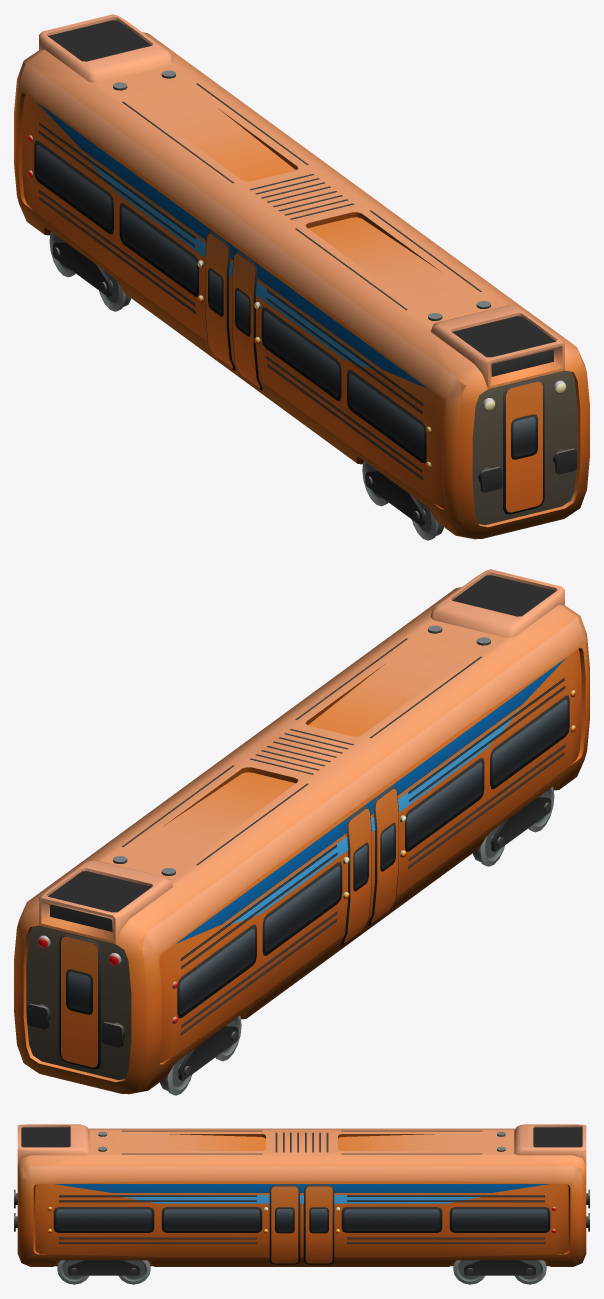
Rendered from Train_Cart_1A.fbx.
The picture shows the model from 3 angles, top to bottom: view 1: azimuth 30°, elevation 25°; view 2: azimuth 150°, elevation 25°; view 3: azimuth 270°, elevation 25°; orthographic projection. The views are drawn at different scales.
Visible parts, largest first — view 1: Train_Cart_1A, Train_Cart_1A_Livery; view 2: Train_Cart_1A, Train_Cart_1A_Livery; view 3: Train_Cart_1A, Train_Cart_1A_Livery, Train_Cart_1A_Wheel_M2.L, Train_Cart_1A_Wheel_R.L, Train_Cart_1A_Wheel_M1.L, Train_Cart_1A_Wheel_F.L.
Part boxes in pixels (<box>): Train_Cart_1A: <box>14,14,589,539</box>; Train_Cart_1A_Livery: <box>37,102,427,388</box>; Train_Cart_1A: <box>14,569,589,1094</box>; Train_Cart_1A_Livery: <box>176,657,566,943</box>; Train_Cart_1A: <box>14,1124,589,1275</box>; Train_Cart_1A_Livery: <box>54,1184,549,1203</box>; Train_Cart_1A_Wheel_M2.L: <box>453,1260,485,1284</box>; Train_Cart_1A_Wheel_R.L: <box>514,1260,546,1284</box>; Train_Cart_1A_Wheel_M1.L: <box>118,1260,150,1284</box>; Train_Cart_1A_Wheel_F.L: <box>57,1260,89,1284</box>.
Bounding box in the file's own units: 3.03 × 3.98 × 16.
